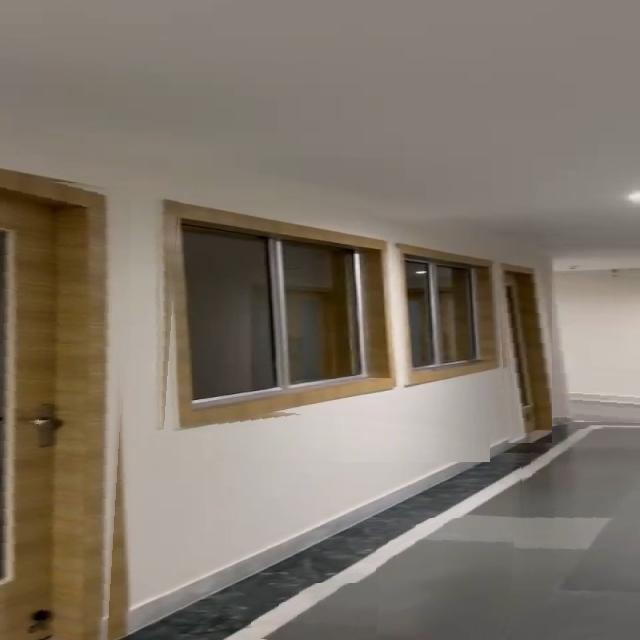door: (0, 178, 134, 640), (496, 260, 552, 443)
floor: (518, 429, 640, 640), (376, 518, 516, 640), (251, 583, 381, 640)
wall: (131, 174, 181, 577), (211, 406, 490, 462), (552, 271, 640, 422)
